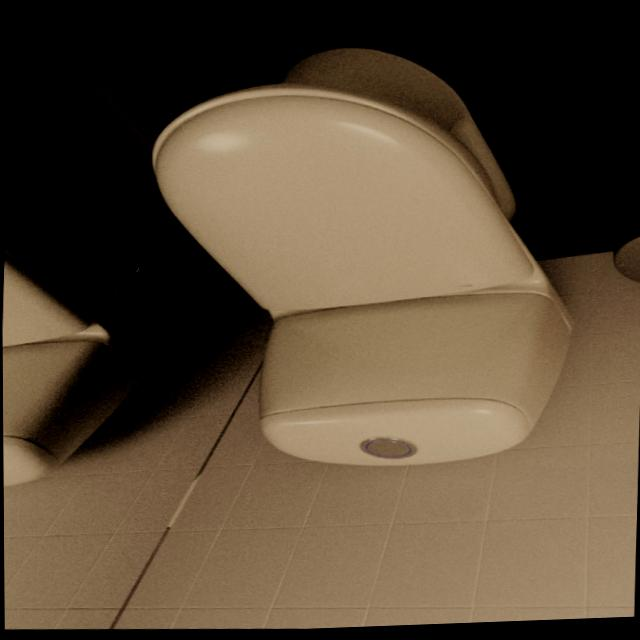toilet: (139, 37, 585, 483)
